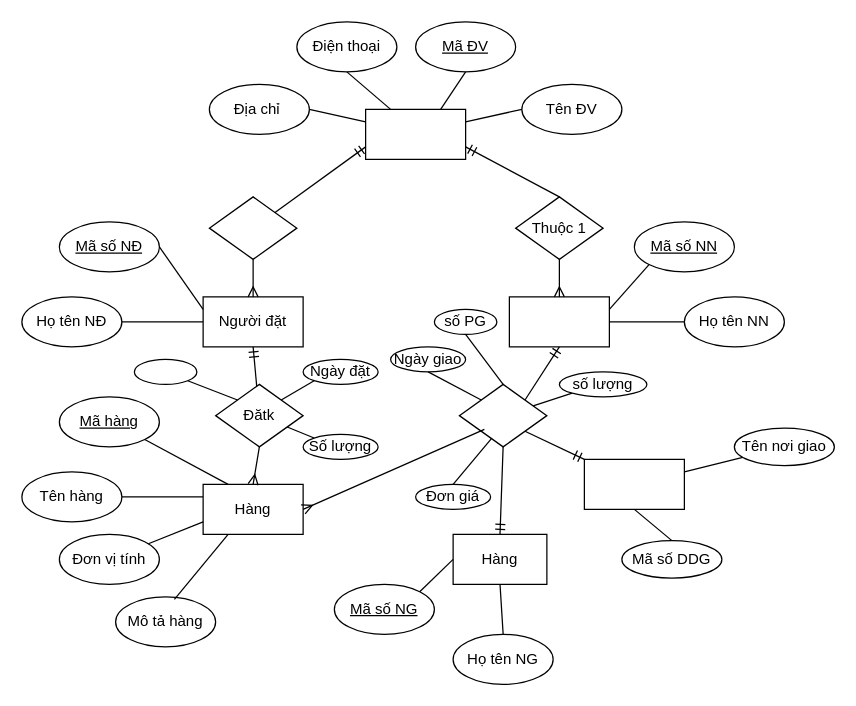
Image size: 856x706. Some labels were removed from this diagram. Each missing label, with the centre of its shape:
"Giao" goes at point 502,415.
"Người giao" goes at point 633,483.
"Người nhận" goes at point 558,321.
"số ĐH" goes at point 165,371.
"Thuộc 2" goes at point 252,227.
"ĐV KhachH" goes at point 415,133.
